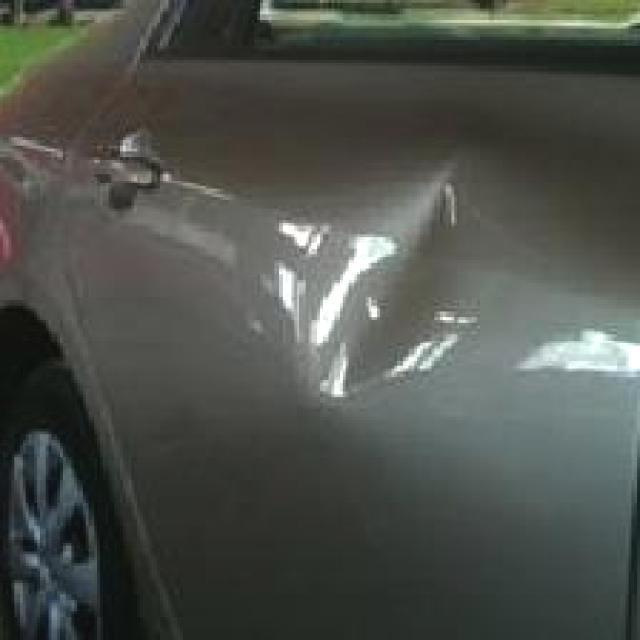minor: (233, 138, 551, 430)
